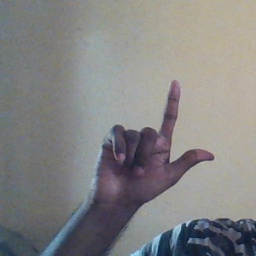L: (89, 81, 215, 208)
